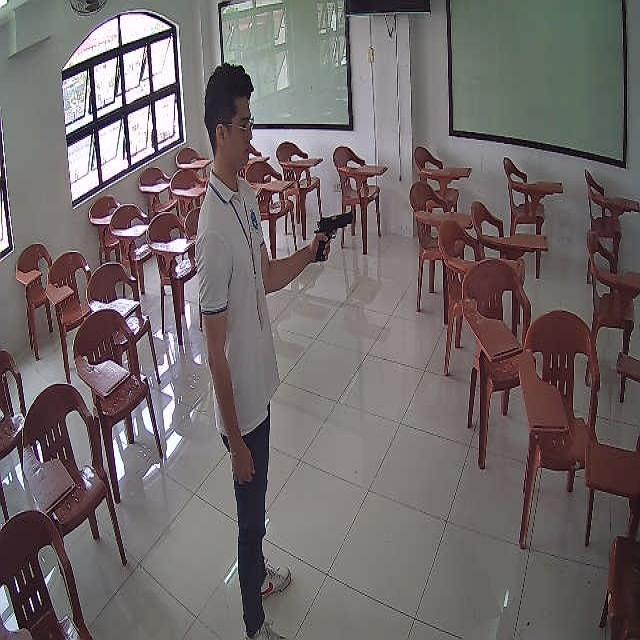pistol: (315, 212, 353, 261)
